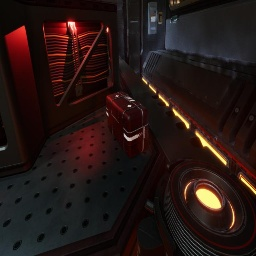EmergencyPhone ,: (157, 8, 162, 24)
FirstAidBox ,: (106, 91, 148, 158)
SafetySwitchPanel ,: (148, 2, 158, 35)
